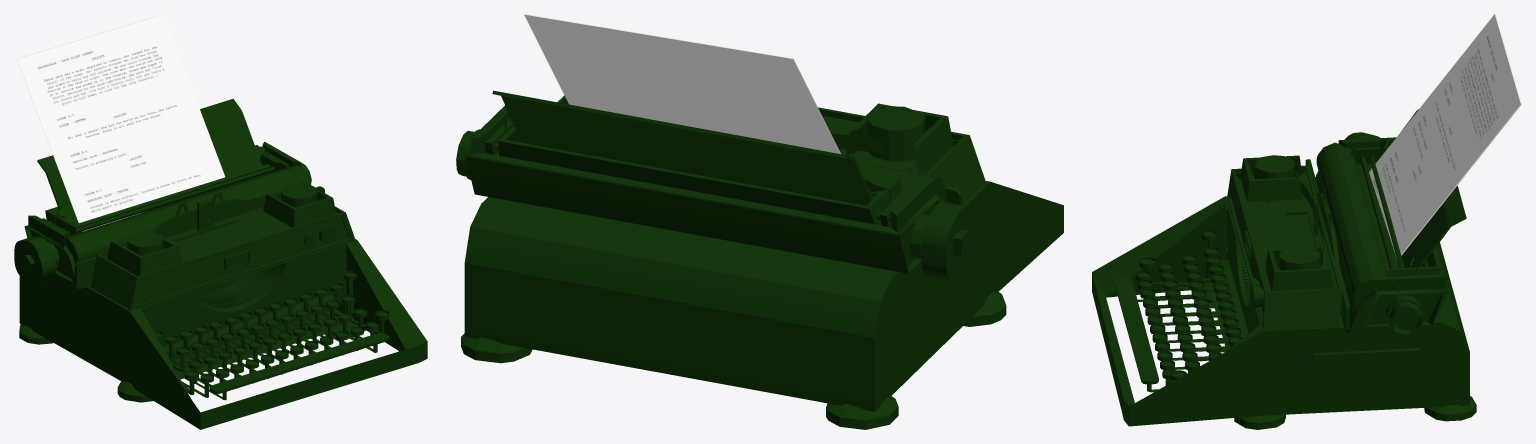
File: typewritter.glb
3 renders of one model, left to right at view 1: azimuth 30°, elevation 25°; view 2: azimuth 150°, elevation 25°; view 3: azimuth 270°, elevation 25°, orthographic. The views are drawn at different scales.
Parts seen in each view (by area): view 1: office_actual_size_3:office_actual_size_2:Type_Writer:T_e803, paper; view 2: office_actual_size_3:office_actual_size_2:Type_Writer:T_e803, paper; view 3: office_actual_size_3:office_actual_size_2:Type_Writer:T_e803, paper.
Part boxes in pixels (bbox=[...]): office_actual_size_3:office_actual_size_2:Type_Writer:T_e803: bbox=[14, 98, 427, 429]; paper: bbox=[17, 14, 225, 231]; office_actual_size_3:office_actual_size_2:Type_Writer:T_e803: bbox=[456, 90, 1063, 429]; paper: bbox=[524, 14, 840, 153]; office_actual_size_3:office_actual_size_2:Type_Writer:T_e803: bbox=[1092, 109, 1476, 429]; paper: bbox=[1369, 14, 1521, 258].
Size of the model in its own units: 0.4802 by 0.3791 by 0.5241.
3 materials, 1 textured.
